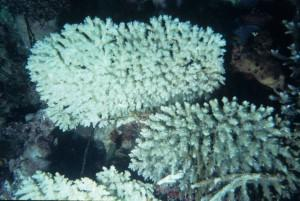bleached_corals: (15, 166, 156, 201), (191, 174, 284, 201)
